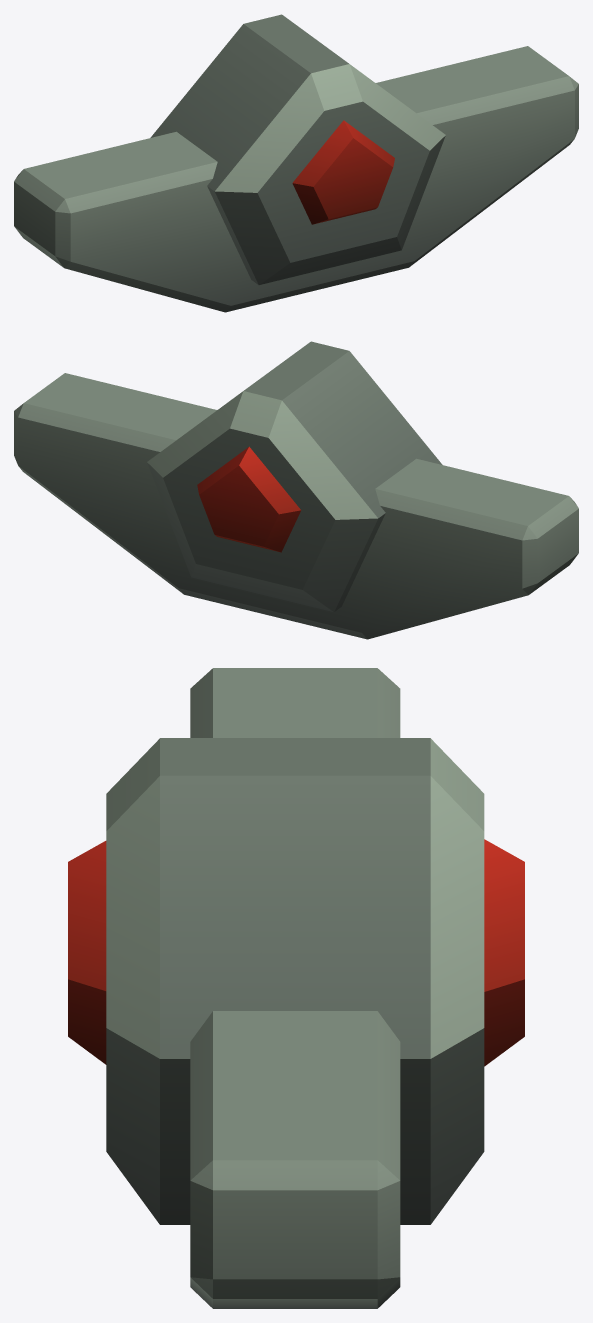
The model's file is decor_001.fbx.
3 views of the same model, one above another, from view 1: azimuth 30°, elevation 25°; view 2: azimuth 150°, elevation 25°; view 3: azimuth 270°, elevation 25° (orthographic). The views are drawn at different scales.
Parts seen in each view (by area): view 1: decor.001; view 2: decor.001; view 3: decor.001.
Part boxes in pixels (bbox=[...]): decor.001: bbox=[14, 14, 578, 312]; decor.001: bbox=[14, 341, 578, 639]; decor.001: bbox=[68, 668, 524, 1308].
Size of the model in its own units: 28.56 by 12.05 by 10.8.
